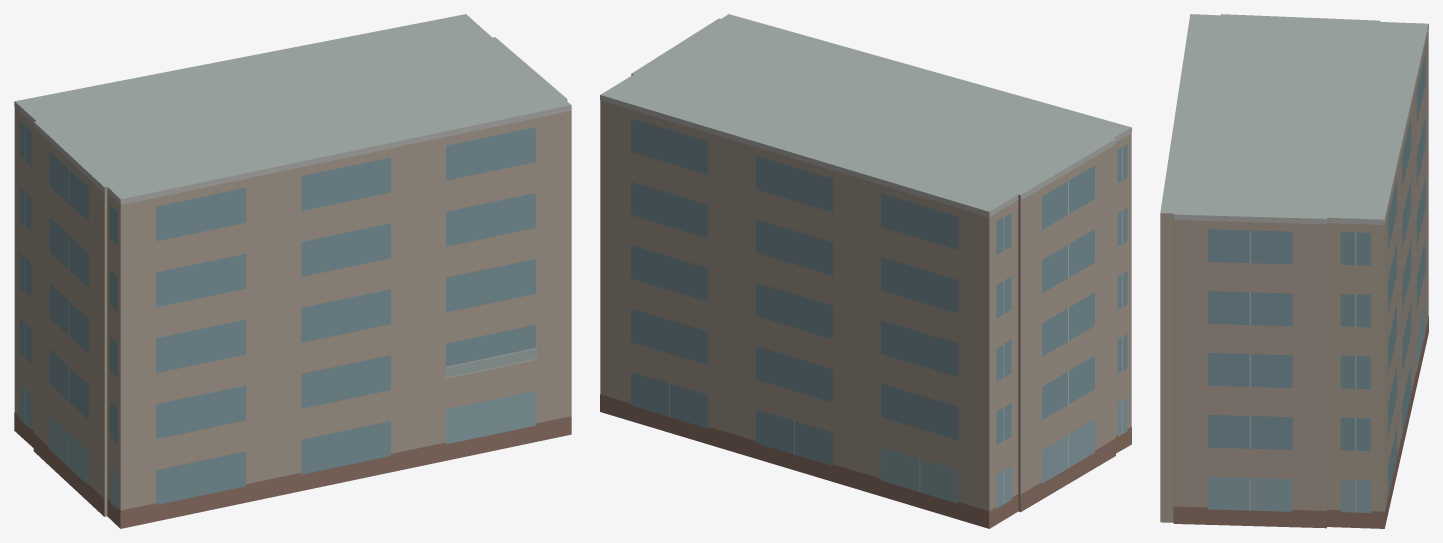
File: survey-upis-32652697.glb
3 renders of one model, left to right at view 1: azimuth 30°, elevation 25°; view 2: azimuth 150°, elevation 25°; view 3: azimuth 270°, elevation 25°, orthographic. The views are drawn at different scales.
Visible parts, largest first — view 1: survey-upis-32652697.tmp; view 2: survey-upis-32652697.tmp; view 3: survey-upis-32652697.tmp.
Boxes of the visible parts, box(x1,y1,x2,y2) form: survey-upis-32652697.tmp: box(14, 14, 571, 528); survey-upis-32652697.tmp: box(600, 14, 1131, 528); survey-upis-32652697.tmp: box(1160, 14, 1428, 528).
Size of the model in its own units: 20.12 by 14.1 by 11.11.
